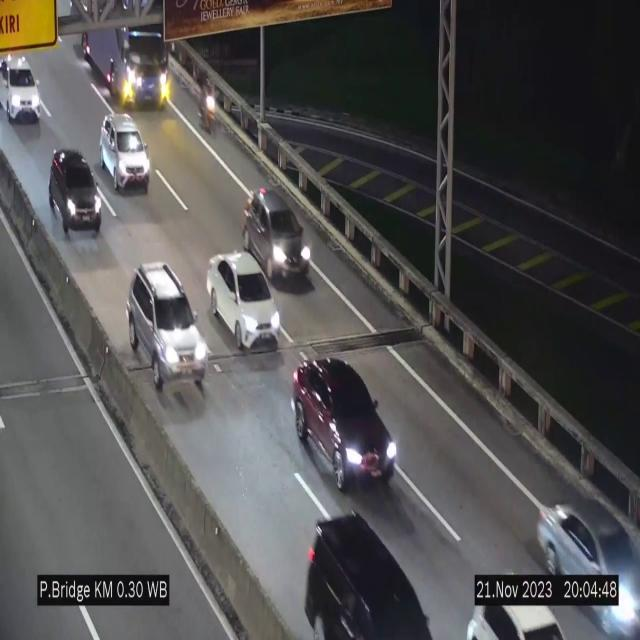Bus: (76, 0, 174, 114)
Car: (295, 505, 447, 640), (533, 467, 640, 640), (291, 356, 398, 500), (128, 262, 208, 393), (207, 252, 281, 350), (459, 576, 571, 640), (243, 188, 313, 289), (46, 142, 104, 239), (100, 114, 150, 192), (0, 56, 44, 136)
Motorcycle: (195, 64, 219, 148)
